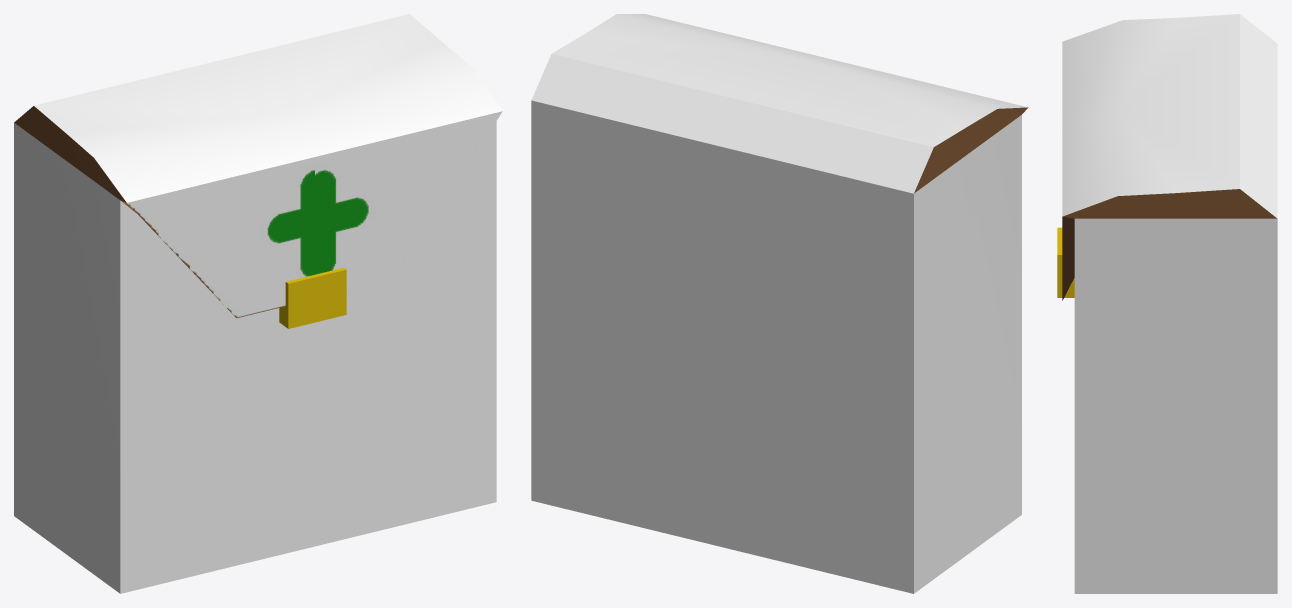
Rendered from medkit.fbx.
The picture shows the model from 3 angles, left to right: view 1: azimuth 30°, elevation 25°; view 2: azimuth 150°, elevation 25°; view 3: azimuth 270°, elevation 25°; orthographic projection. The views are drawn at different scales.
Parts seen in each view (by area): view 1: medkit; view 2: medkit; view 3: medkit.
Boxes of the visible parts, x1,y1,x2,y2 form: medkit: (14,14,502,593); medkit: (531,14,1028,593); medkit: (1057,14,1277,593).
Bounding box in the file's own units: 14.68 × 15.8 × 7.79.
1 material, 1 textured.
